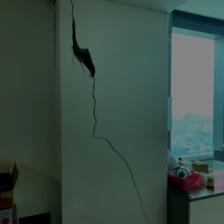High: (62, 1, 157, 224)
